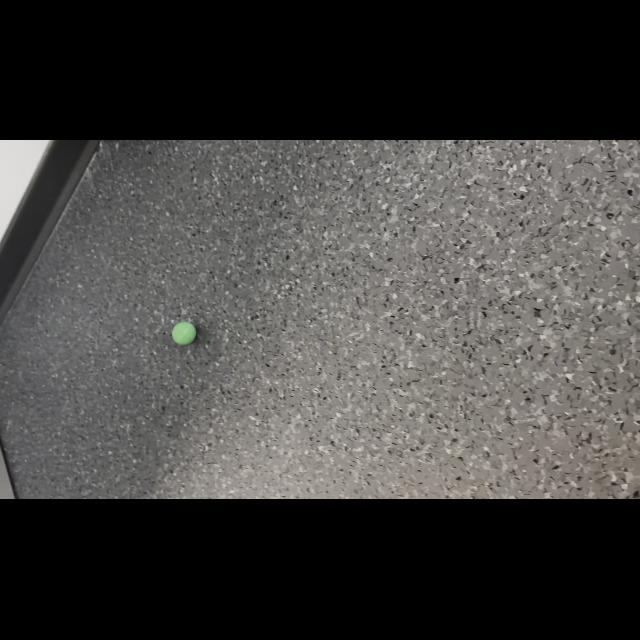objects: (168, 314, 200, 350)
